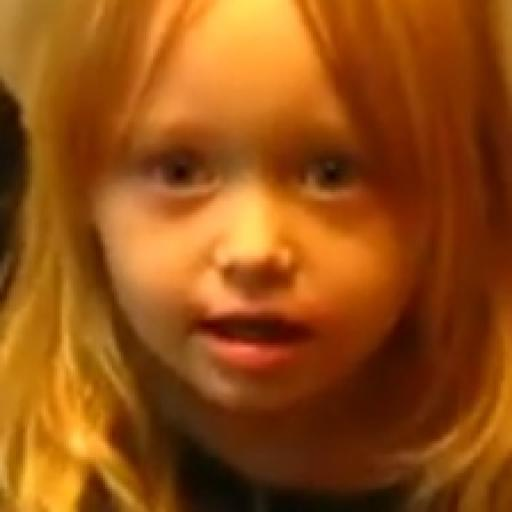Autism: (31, 22, 501, 441)
